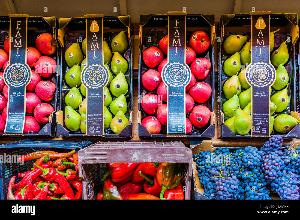apple: (140, 14, 218, 138), (0, 21, 56, 136)
bell_pepper: (84, 142, 189, 204), (0, 142, 82, 202)
grape: (190, 136, 300, 200)
pear: (220, 12, 300, 134), (60, 14, 134, 138)
